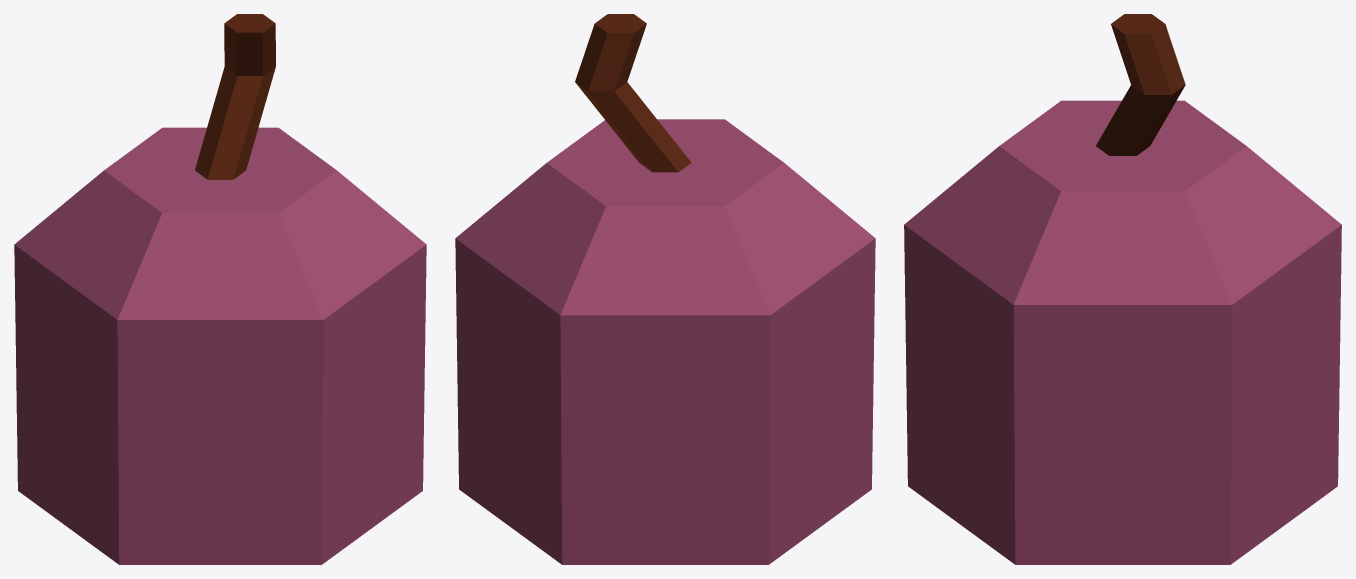
File: Plum.fbx
3 views of the same model, side by side, from view 1: azimuth 30°, elevation 25°; view 2: azimuth 150°, elevation 25°; view 3: azimuth 270°, elevation 25° (orthographic). The views are drawn at different scales.
Visible parts, largest first — view 1: Cylinder; view 2: Cylinder; view 3: Cylinder.
Boxes of the visible parts, x1,y1,x2,y2 form: Cylinder: [14, 14, 426, 564]; Cylinder: [455, 14, 875, 564]; Cylinder: [904, 14, 1341, 564].
Size of the model in its own units: 285 by 441 by 329.
